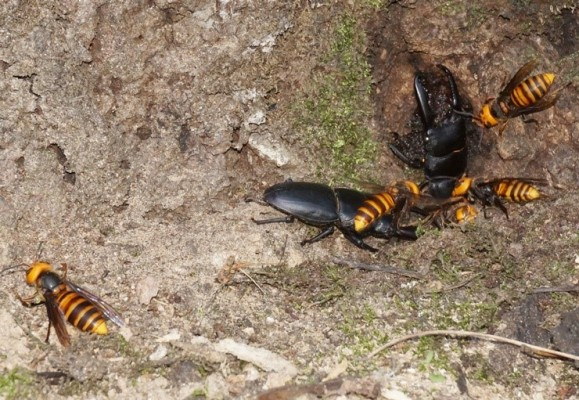asian_giant_hornet: (18, 253, 112, 337), (473, 68, 559, 135), (353, 178, 424, 235), (448, 169, 544, 209), (430, 204, 476, 232)
